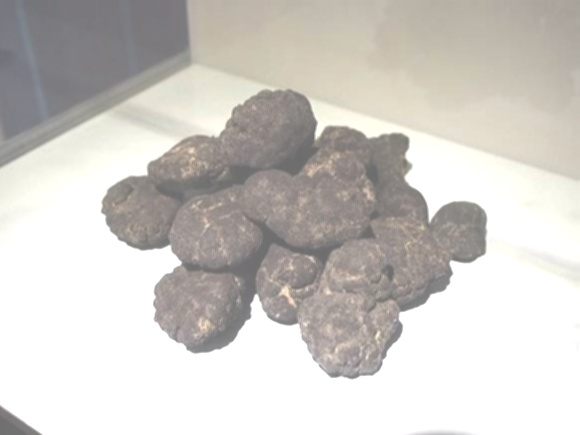halobolite: (303, 247, 407, 383), (246, 143, 375, 240), (148, 264, 257, 351), (232, 78, 312, 173), (174, 192, 274, 265), (99, 169, 180, 251), (143, 127, 239, 190), (258, 239, 324, 328), (434, 195, 489, 264)
